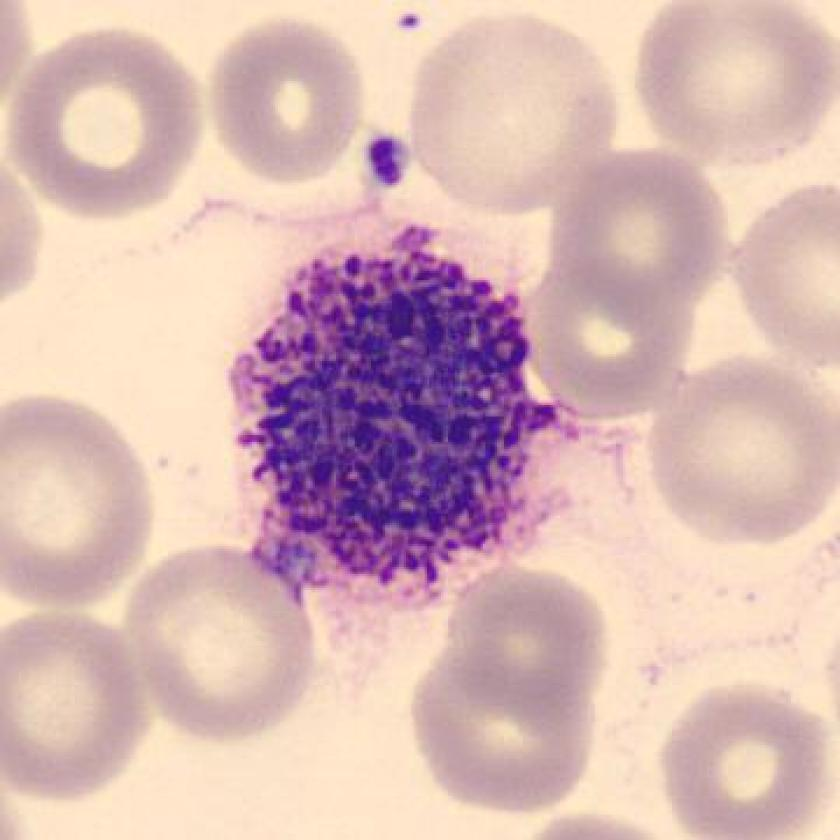basophil: (202, 232, 535, 596)
